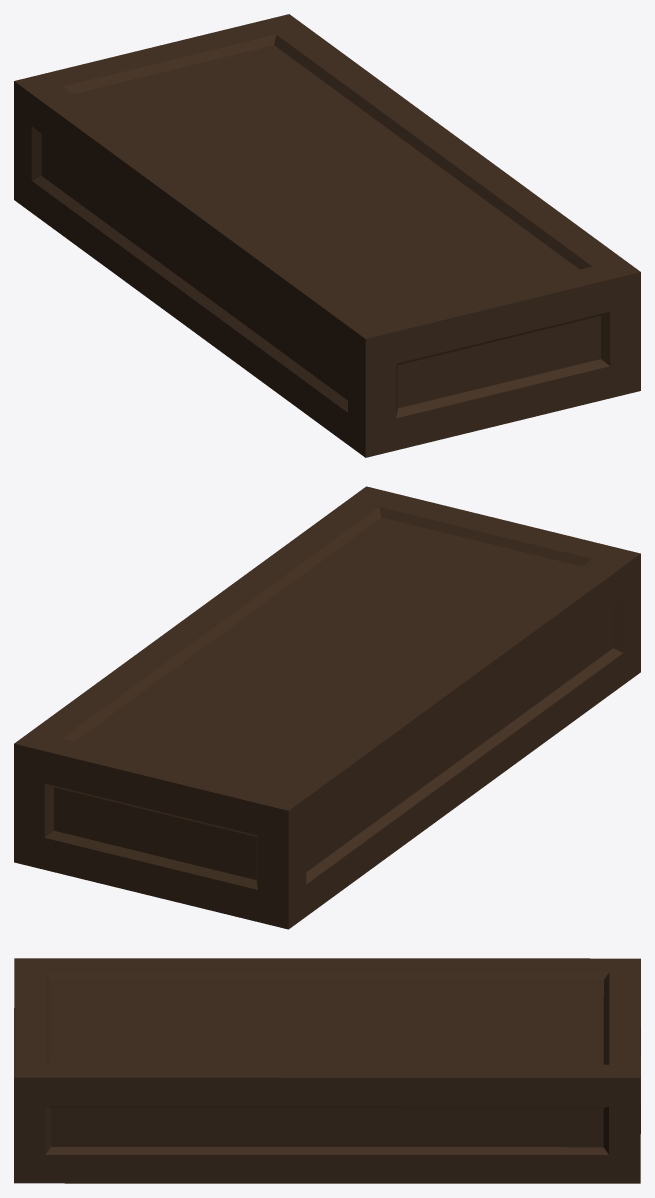
3 renders of one model, top to bottom at view 1: azimuth 30°, elevation 25°; view 2: azimuth 150°, elevation 25°; view 3: azimuth 270°, elevation 25°, orthographic. The views are drawn at different scales.
Visible parts, largest first — view 1: box_1_mat; view 2: box_1_mat; view 3: box_1_mat.
Boxes of the visible parts, box(x1,y1,x2,y2) form: box_1_mat: box(14, 14, 640, 457); box_1_mat: box(14, 486, 640, 929); box_1_mat: box(14, 958, 640, 1183).
Size of the model in its own units: 34.72 by 14.3 by 76.84.
